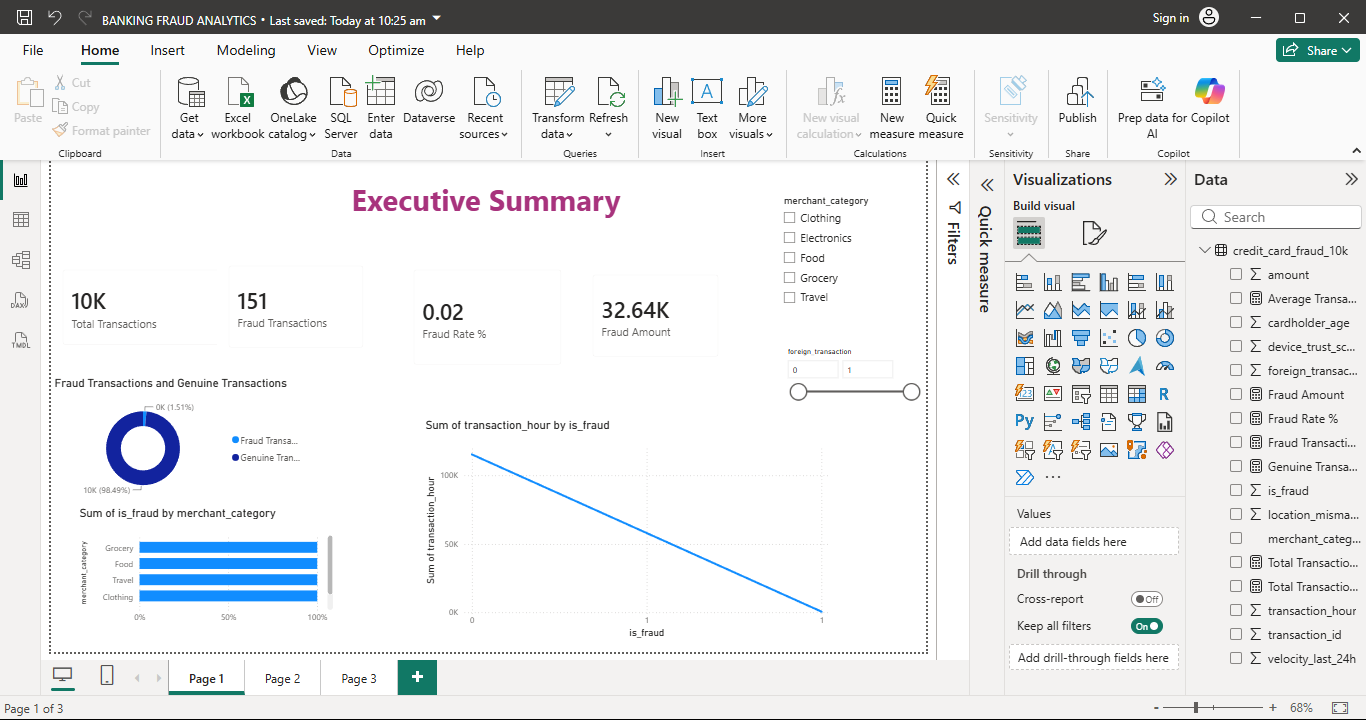

The dashboard page shown, as its layout file describes it:
{"tool":"powerbi","page":{"name":"Page 1","canvas":[1280,720],"ordinal":0},"visuals":[{"type":"cardVisual","fields":{"Data":["credit_card_fraud_10k.Total Transactions"]},"box":[0,142.8,280.5,144.5],"z":0},{"type":"cardVisual","fields":{"Data":["credit_card_fraud_10k.Fraud Rate %"]},"box":[514,142.8,250.3,173],"z":1000},{"type":"cardVisual","fields":{"Data":["credit_card_fraud_10k.Fraud Amount"]},"box":[776.1,151.2,218.4,154.5],"z":2000},{"type":"cardVisual","fields":{"Data":["credit_card_fraud_10k.Fraud Transactions"]},"box":[243.6,137.7,231.8,154.5],"z":3000},{"type":"donutChart","fields":{"Y":["credit_card_fraud_10k.Fraud Transactions","credit_card_fraud_10k.Genuine Transactions"]},"box":[0,315.8,381.3,181.4],"z":4000},{"type":"slicer","fields":{"Values":["credit_card_fraud_10k.merchant_category"]},"box":[1059.9,47,220.1,181.4],"z":5000},{"type":"slicer","fields":{"Values":["credit_card_fraud_10k.foreign_transaction"]},"box":[1065,268.8,215,134.4],"z":6000},{"type":"hundredPercentStackedBarChart","fields":{"Category":["credit_card_fraud_10k.merchant_category"],"Y":["Sum(credit_card_fraud_10k.is_fraud)"]},"box":[37,506,381,181],"z":7000},{"type":"lineChart","fields":{"Category":["credit_card_fraud_10k.is_fraud"],"Y":["Sum(credit_card_fraud_10k.transaction_hour)"]},"box":[542.6,378,599.7,327.6],"z":8000},{"type":"textbox","box":[423.3,23.5,522.4,80.6],"z":9000},{"type":"slicer","fields":{"Values":["credit_card_fraud_10k.is_fraud"]},"box":[980,482.9,300,158],"z":10000}]}

Visuals, with their boxes on the page's 1280x720 design canvas (x1, y1, x2, y2). These are canvas units, not pixel positions in the 1366x720 screenshot, which may show the page scaled, cropped or inside an application window:
cardVisual - credit_card_fraud_10k.Total Transactions: box(0, 143, 280, 287)
cardVisual - credit_card_fraud_10k.Fraud Rate %: box(514, 143, 764, 316)
cardVisual - credit_card_fraud_10k.Fraud Amount: box(776, 151, 994, 306)
cardVisual - credit_card_fraud_10k.Fraud Transactions: box(244, 138, 475, 292)
donutChart - credit_card_fraud_10k.Fraud Transactions x credit_card_fraud_10k.Genuine Transactions: box(0, 316, 381, 497)
slicer - credit_card_fraud_10k.merchant_category: box(1060, 47, 1280, 228)
slicer - credit_card_fraud_10k.foreign_transaction: box(1065, 269, 1280, 403)
hundredPercentStackedBarChart - credit_card_fraud_10k.merchant_category x Sum(credit_card_fraud_10k.is_fraud): box(37, 506, 418, 687)
lineChart - credit_card_fraud_10k.is_fraud x Sum(credit_card_fraud_10k.transaction_hour): box(543, 378, 1142, 706)
textbox: box(423, 24, 946, 104)
slicer - credit_card_fraud_10k.is_fraud: box(980, 483, 1280, 641)
